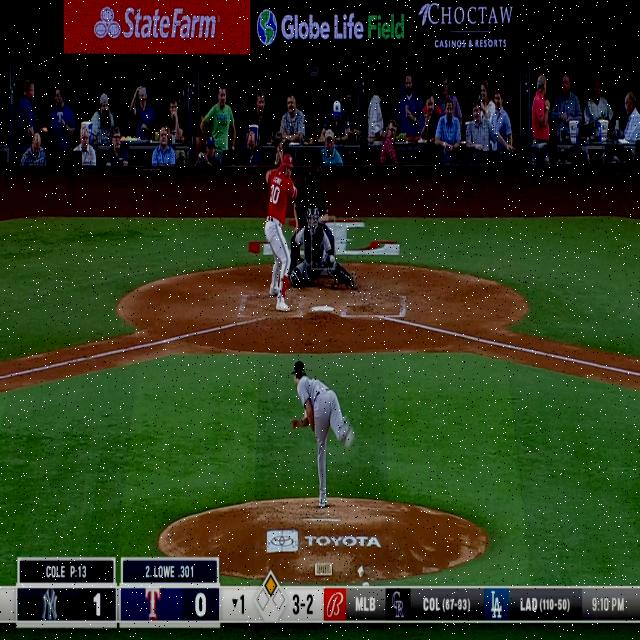baseball: (330, 254, 334, 263)
